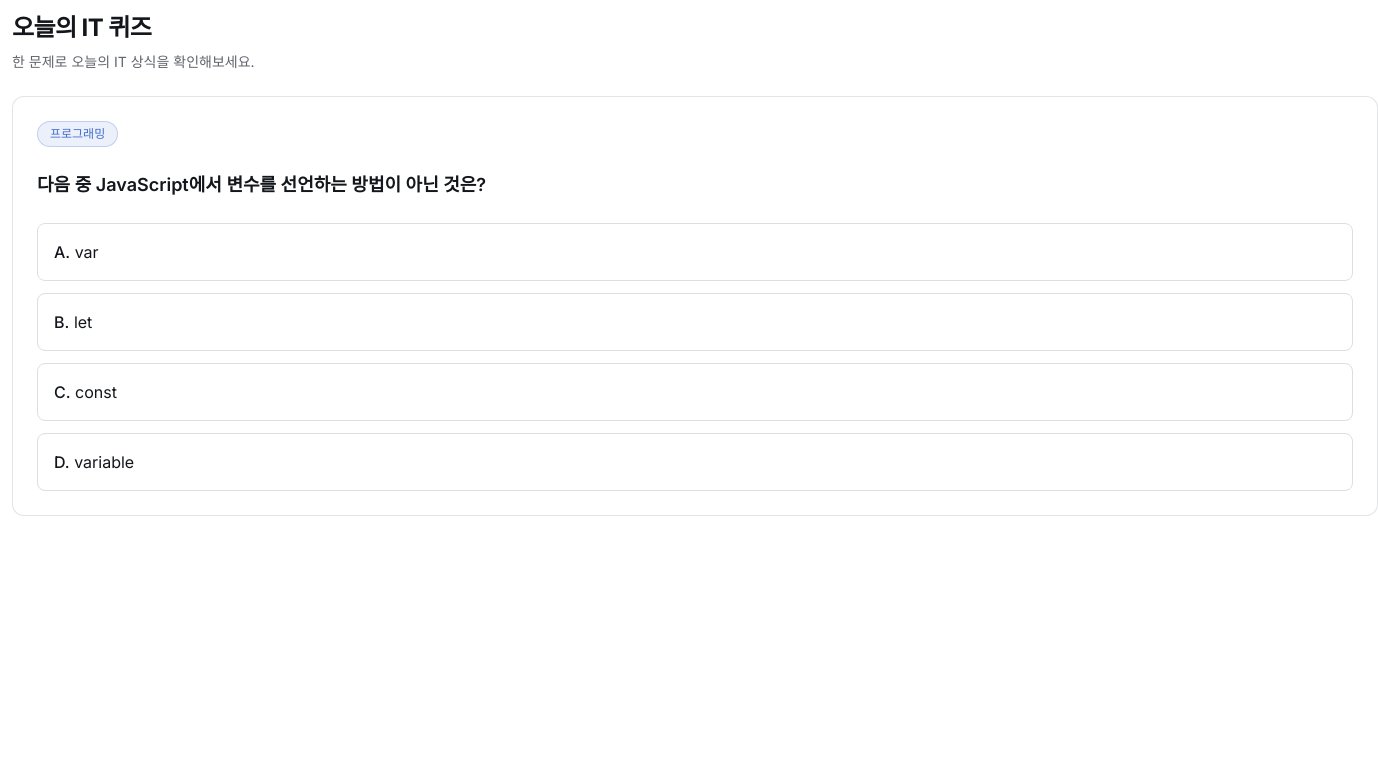
Scenario: TodayQuiz › 선택지를 고르면 제출 버튼이 나타난다
Expected: the heading "다음 중 JavaScript에서 변수를 선언하는 방법이 아닌 것은?" is shown, left=37, top=174, right=486, bottom=195
Click the button "A. var" at (60, 252), box left=37, top=223, right=1353, bottom=281
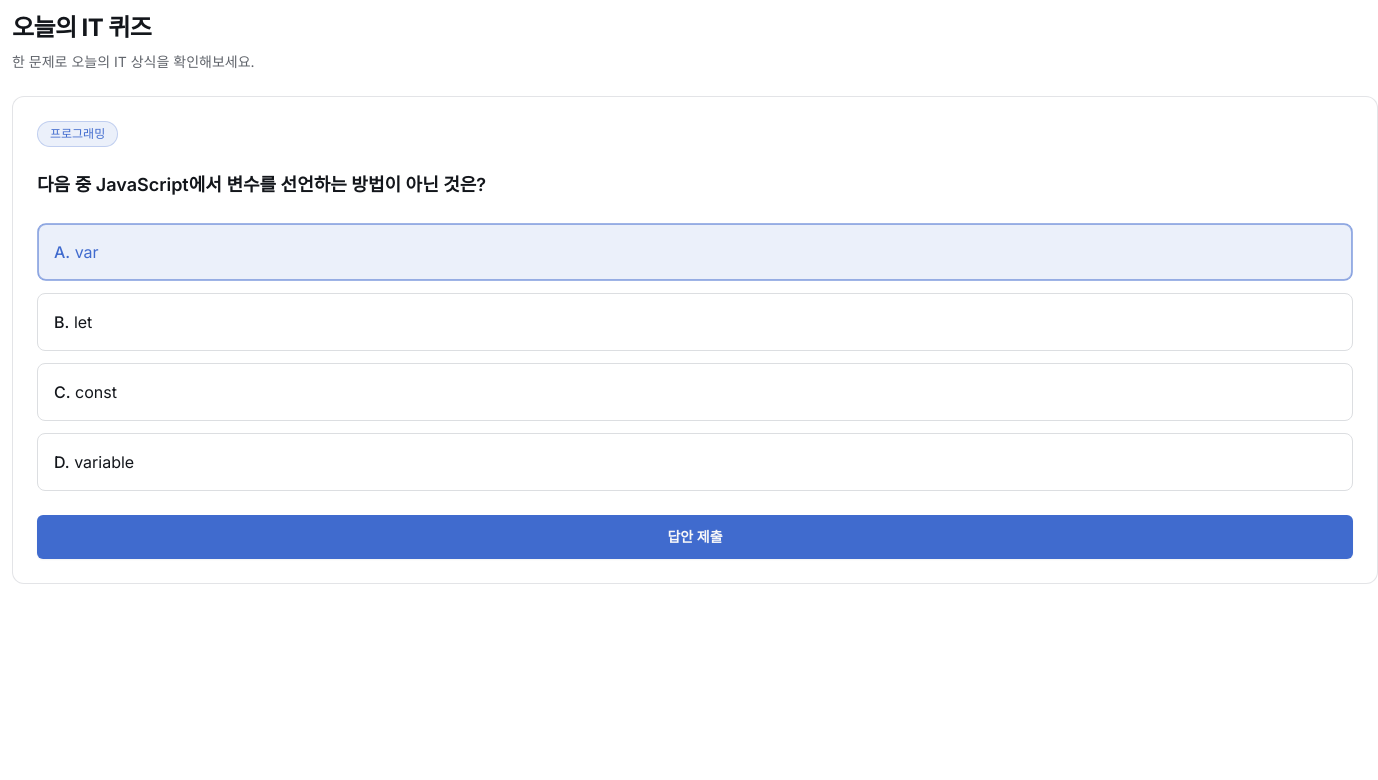
Now the button "답안 제출" is shown, box left=37, top=515, right=1353, bottom=559
